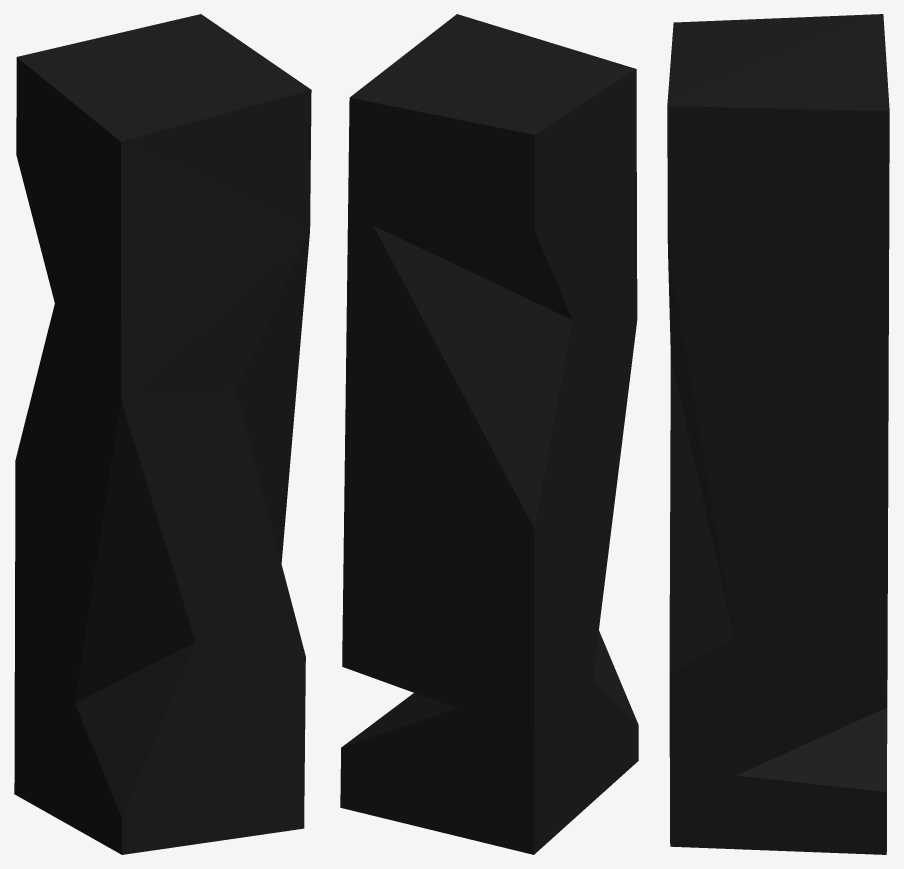
Rendered from Pillar_Square_Middle.fbx.
3 views of the same model, side by side, from view 1: azimuth 30°, elevation 25°; view 2: azimuth 150°, elevation 25°; view 3: azimuth 270°, elevation 25° (orthographic). The views are drawn at different scales.
Parts seen in each view (by area): view 1: Pillar_Square_Middle; view 2: Pillar_Square_Middle; view 3: Pillar_Square_Middle.
Part boxes in pixels (bbox=[...]): Pillar_Square_Middle: bbox=[14, 14, 311, 854]; Pillar_Square_Middle: bbox=[340, 14, 638, 854]; Pillar_Square_Middle: bbox=[667, 14, 889, 854].
Bounding box in the file's own units: 162 × 574 × 156.
